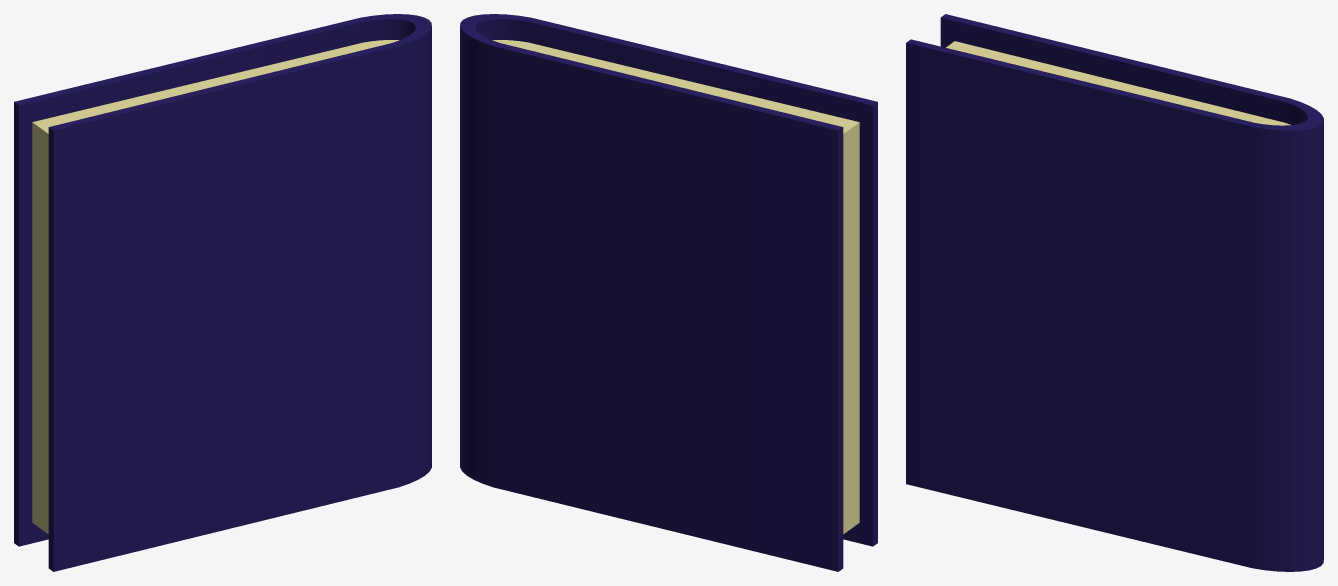
The model's file is book_blue.glb.
3 renders of one model, left to right at view 1: azimuth 30°, elevation 25°; view 2: azimuth 150°, elevation 25°; view 3: azimuth 330°, elevation 25°, orthographic.
Visible parts, largest first — view 1: book_blue; view 2: book_blue; view 3: book_blue.
Part boxes in pixels (<box>): book_blue: <box>14,14,431,571</box>; book_blue: <box>460,14,877,571</box>; book_blue: <box>906,14,1323,571</box>.
Size of the model in its own units: 0.5181 by 0.5528 by 0.0895.
